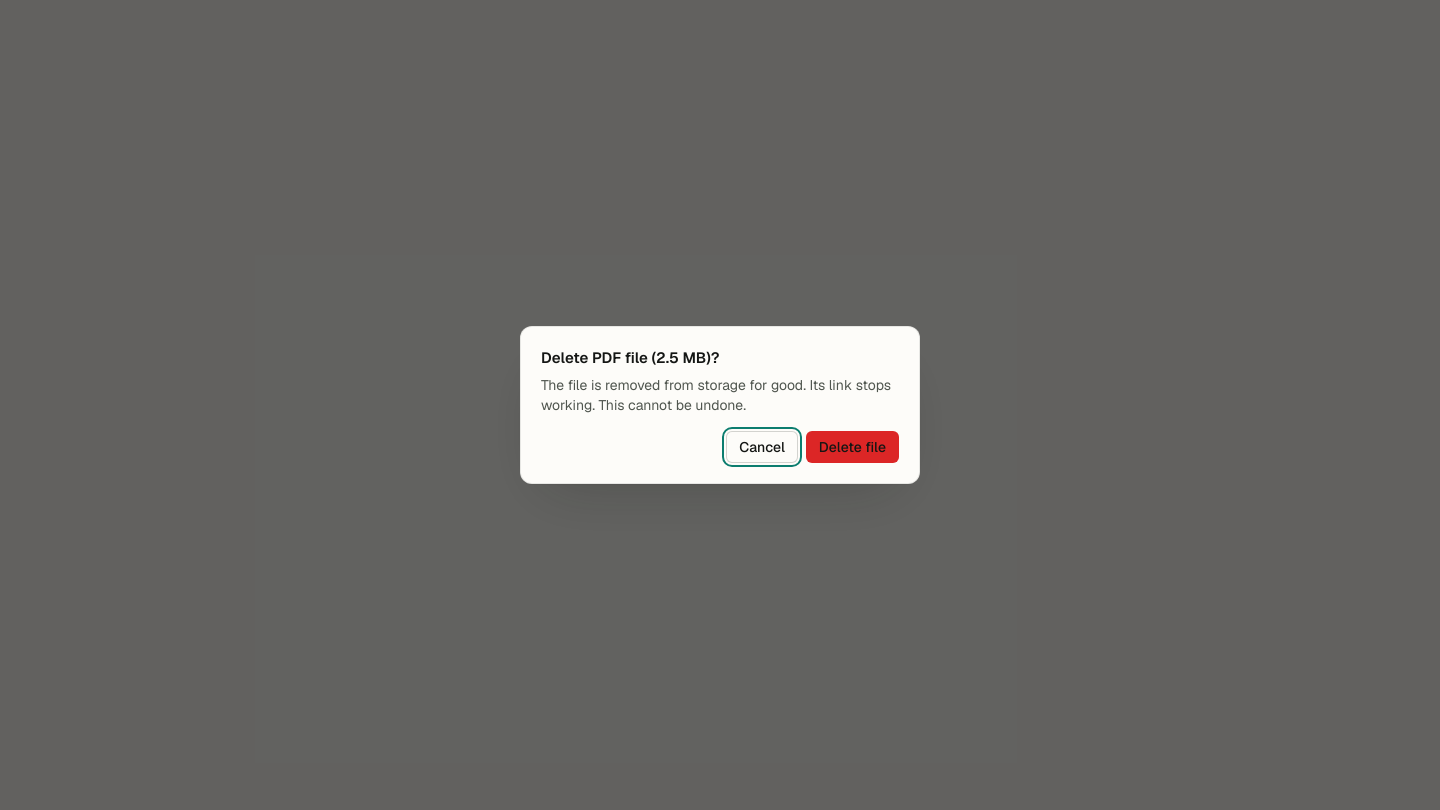
Test case: DeleteFilesDialog › explains step-up and offers a sign-in link when the sign-in is too old
Later steps or results of the test are not shown.
Step 1. Click the button "Delete file" → [852, 447], box [806,431,899,463]
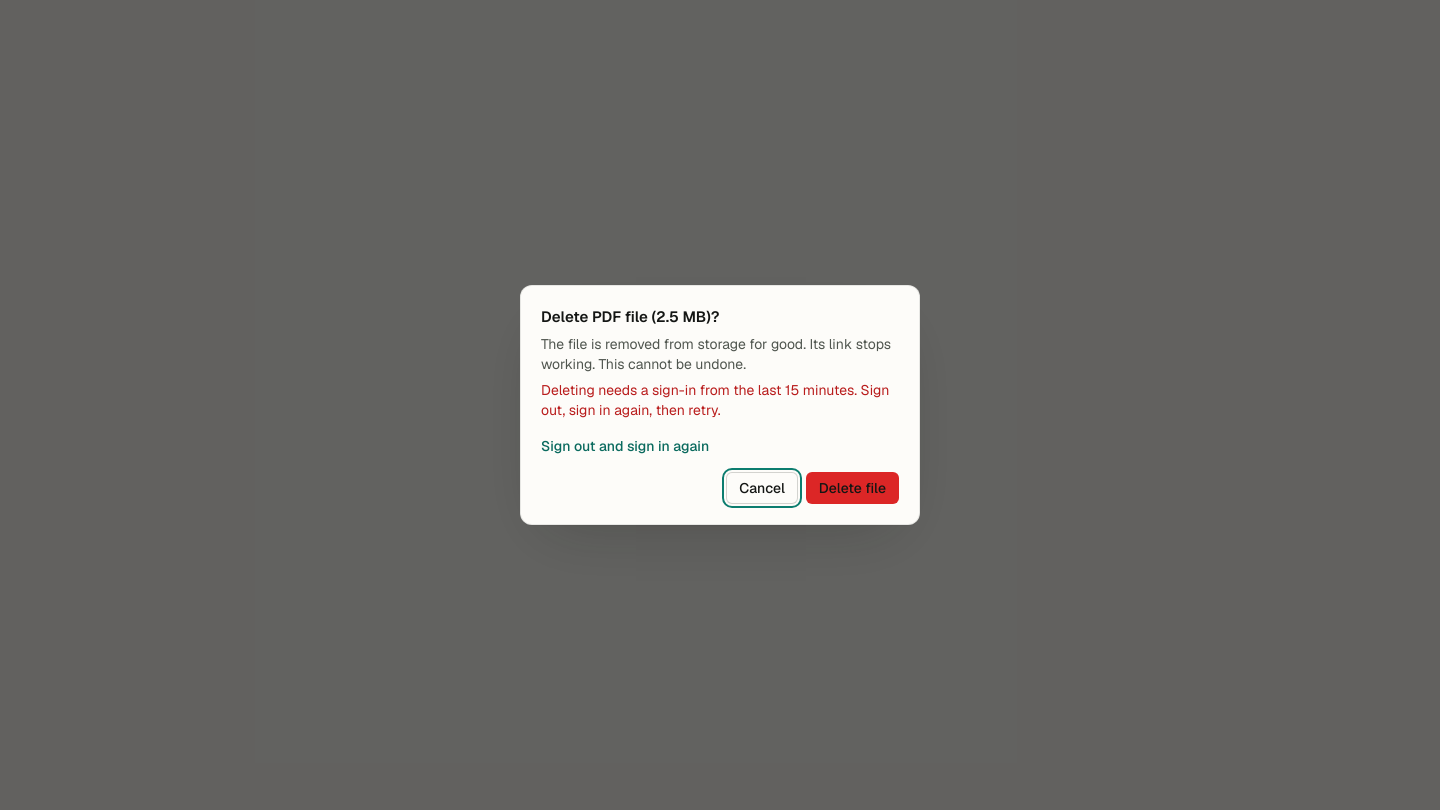
Check: the message shows "last 15 minutes", box [541,381,889,419]
